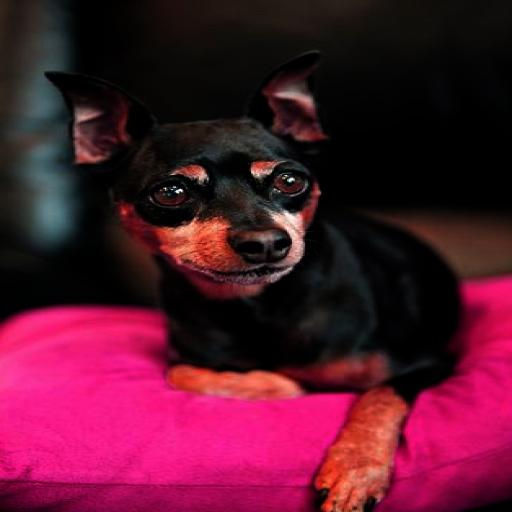dog_face: (36, 55, 354, 291)
